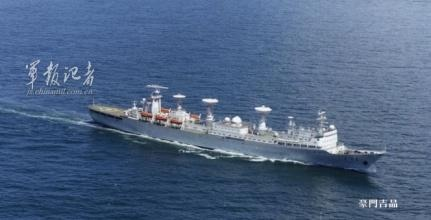warship: (88, 83, 396, 176)
